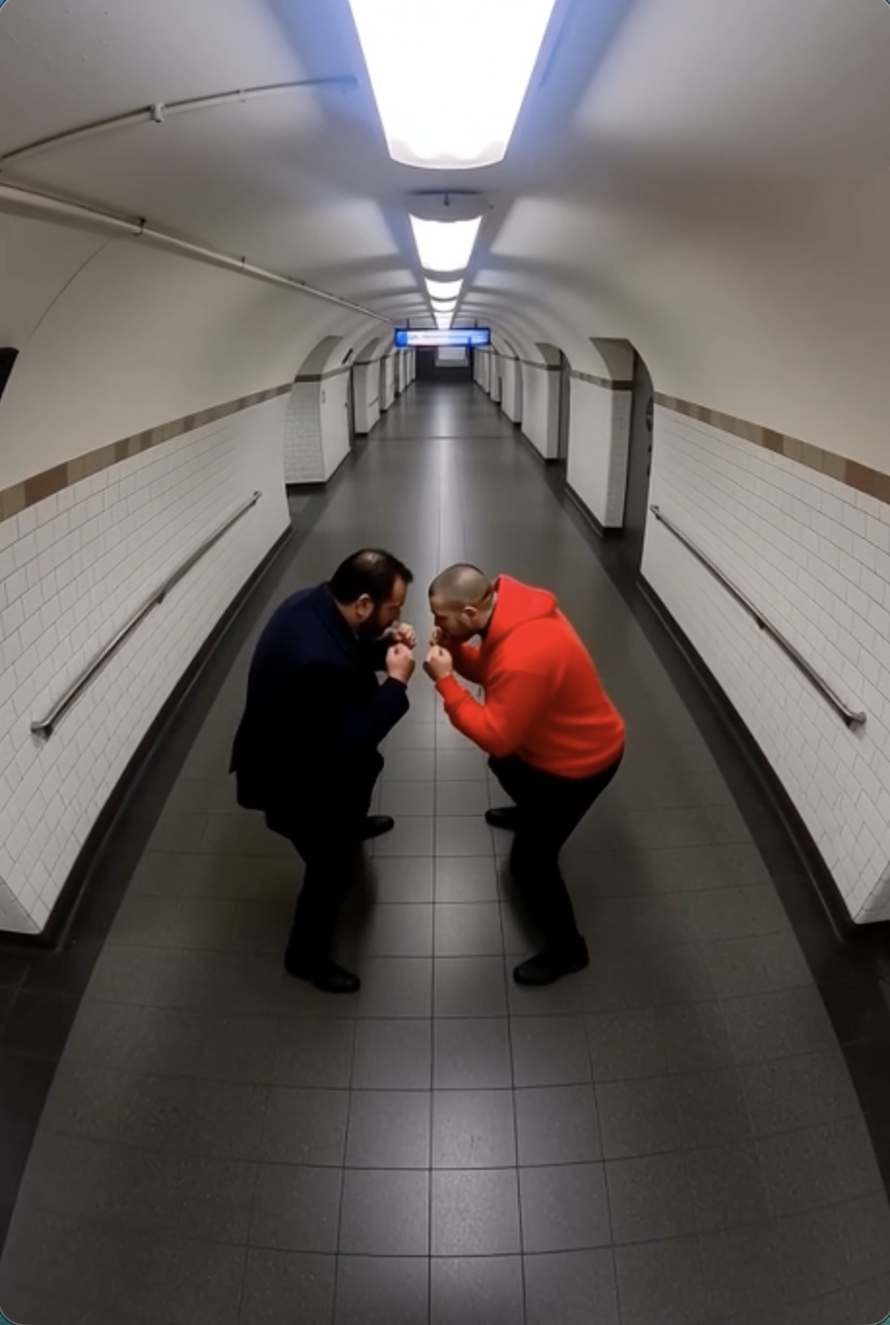Assault: (424, 562, 627, 989)
Fighting: (228, 547, 417, 995)
